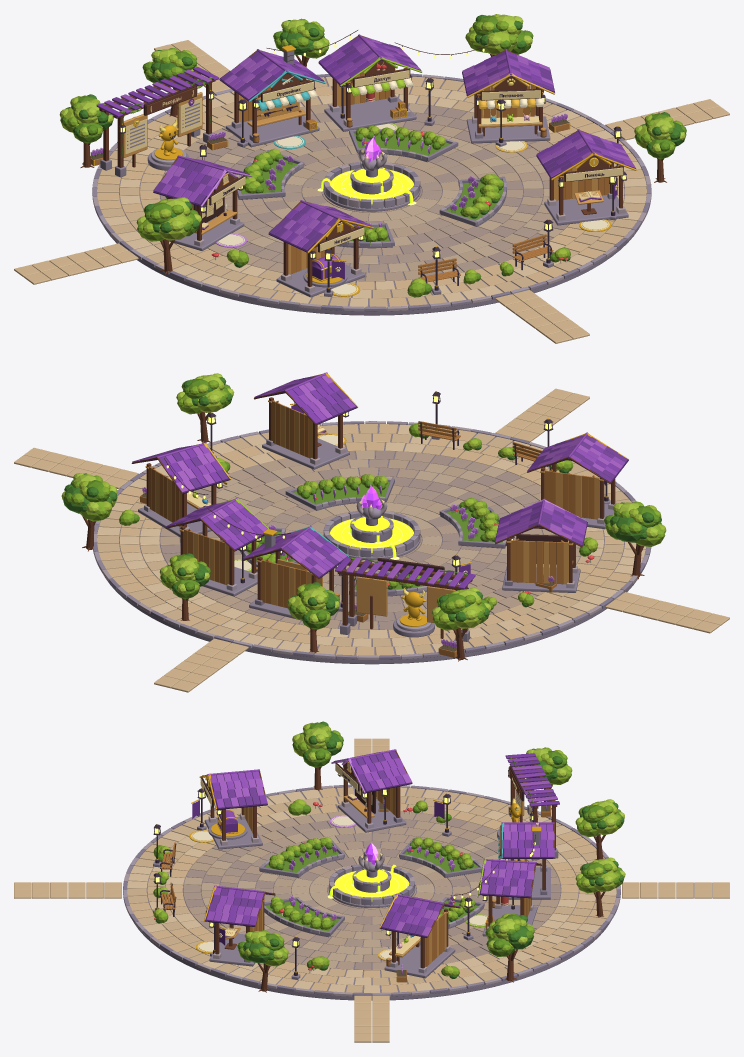
Rendered from Plaza_Assembly.glb.
3 renders of one model, top to bottom at view 1: azimuth 30°, elevation 25°; view 2: azimuth 150°, elevation 25°; view 3: azimuth 270°, elevation 25°, orthographic. The views are drawn at different scales.
Visible parts, largest first — view 1: Plaza_Paving__Paving_5.001, Plaza_Paving__Paving_6.001, Plaza_Paving__Paving_4.001, Plaza_Paving__Paving_0.001, Plaza_Paving__Paving_3.001, Plaza_Paving__Paving_2.001, Plaza_Paving__Paving_7.001, Plaza_Paving__Curb.001, Plaza_Paving__Foundation.001, Plaza_Paving__Paving_1.001, Pavilion_Weapons__Roof.001, Pavilion_Pets__Roof.001 (+51 smaller); view 2: Plaza_Paving__Paving_6.001, Plaza_Paving__Paving_7.001, Plaza_Paving__Paving_5.001, Plaza_Paving__Paving_3.001, Plaza_Paving__Paving_2.001, Plaza_Paving__Paving_1.001, Plaza_Paving__Paving_0.001, Plaza_Paving__Paving_4.001, Plaza_Paving__Curb.001, Plaza_Paving__Foundation.001, Pavilion_Quests__Structure.001, Records_Pergola__Structure.001 (+40 smaller); view 3: Plaza_Paving__Paving_5.001, Plaza_Paving__Paving_7.001, Plaza_Paving__Paving_3.001, Plaza_Paving__Paving_4.001, Plaza_Paving__Paving_1.001, Plaza_Paving__Paving_0.001, Plaza_Paving__Paving_6.001, Plaza_Paving__Curb.001, Plaza_Paving__Paving_2.001, Plaza_Paving__Foundation.001, Pavilion_Pets__Structure.001, Pavilion_Quests__Roof.001 (+36 smaller).
Boxes of the visible parts, bbox=[...] form: Plaza_Paving__Paving_5.001: bbox=[316, 205, 520, 308]; Plaza_Paving__Paving_6.001: bbox=[396, 190, 641, 287]; Plaza_Paving__Paving_4.001: bbox=[146, 201, 368, 306]; Plaza_Paving__Paving_0.001: bbox=[380, 77, 604, 176]; Plaza_Paving__Paving_3.001: bbox=[97, 168, 338, 256]; Plaza_Paving__Paving_2.001: bbox=[109, 98, 328, 197]; Plaza_Paving__Paving_7.001: bbox=[418, 130, 646, 212]; Plaza_Paving__Curb.001: bbox=[92, 73, 651, 311]; Plaza_Paving__Foundation.001: bbox=[104, 77, 639, 315]; Plaza_Paving__Paving_1.001: bbox=[214, 76, 428, 172]; Pavilion_Weapons__Roof.001: bbox=[219, 45, 325, 102]; Pavilion_Pets__Roof.001: bbox=[462, 49, 555, 97]; Plaza_Paving__Paving_6.001: bbox=[312, 424, 495, 516]; Plaza_Paving__Paving_7.001: bbox=[129, 432, 348, 532]; Plaza_Paving__Paving_5.001: bbox=[395, 436, 628, 529]; Plaza_Paving__Paving_3.001: bbox=[389, 544, 617, 649]; Plaza_Paving__Paving_2.001: bbox=[255, 556, 450, 657]; Plaza_Paving__Paving_1.001: bbox=[113, 564, 349, 644]; Plaza_Paving__Paving_0.001: bbox=[97, 486, 323, 577]; Plaza_Paving__Paving_4.001: bbox=[414, 499, 646, 593]; Plaza_Paving__Curb.001: bbox=[93, 421, 651, 660]; Plaza_Paving__Foundation.001: bbox=[104, 424, 638, 664]; Pavilion_Quests__Structure.001: bbox=[502, 526, 580, 592]; Records_Pergola__Structure.001: bbox=[337, 560, 472, 643]; Plaza_Paving__Paving_5.001: bbox=[127, 825, 329, 900]; Plaza_Paving__Paving_7.001: bbox=[216, 903, 381, 993]; Plaza_Paving__Paving_3.001: bbox=[353, 787, 529, 870]; Plaza_Paving__Paving_4.001: bbox=[183, 787, 371, 878]; Plaza_Paving__Paving_1.001: bbox=[412, 884, 616, 958]; Plaza_Paving__Paving_0.001: bbox=[372, 906, 553, 993]; Plaza_Paving__Paving_6.001: bbox=[128, 890, 349, 968]; Plaza_Paving__Curb.001: bbox=[123, 784, 620, 996]; Plaza_Paving__Paving_2.001: bbox=[396, 814, 604, 890]; Plaza_Paving__Foundation.001: bbox=[133, 787, 610, 1000]; Pavilion_Pets__Structure.001: bbox=[384, 908, 455, 978]; Pavilion_Quests__Roof.001: bbox=[331, 749, 412, 793].
Size of the model in its own units: 119 by 14.04 by 119.
